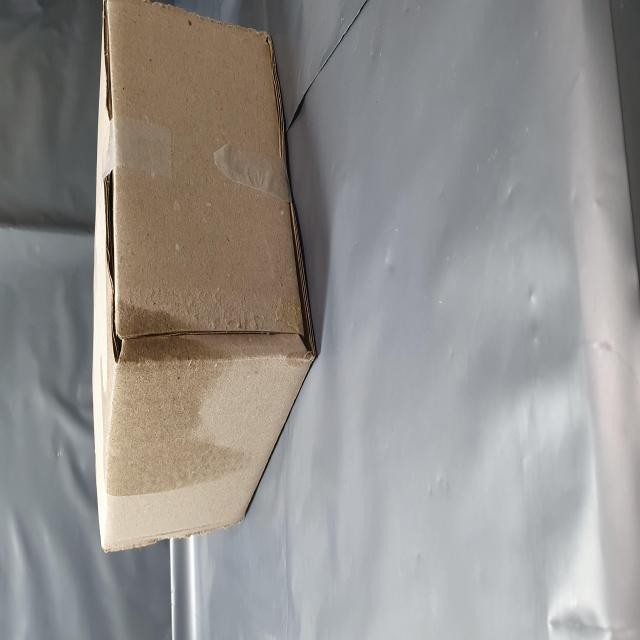wet: (82, 185, 204, 442)
